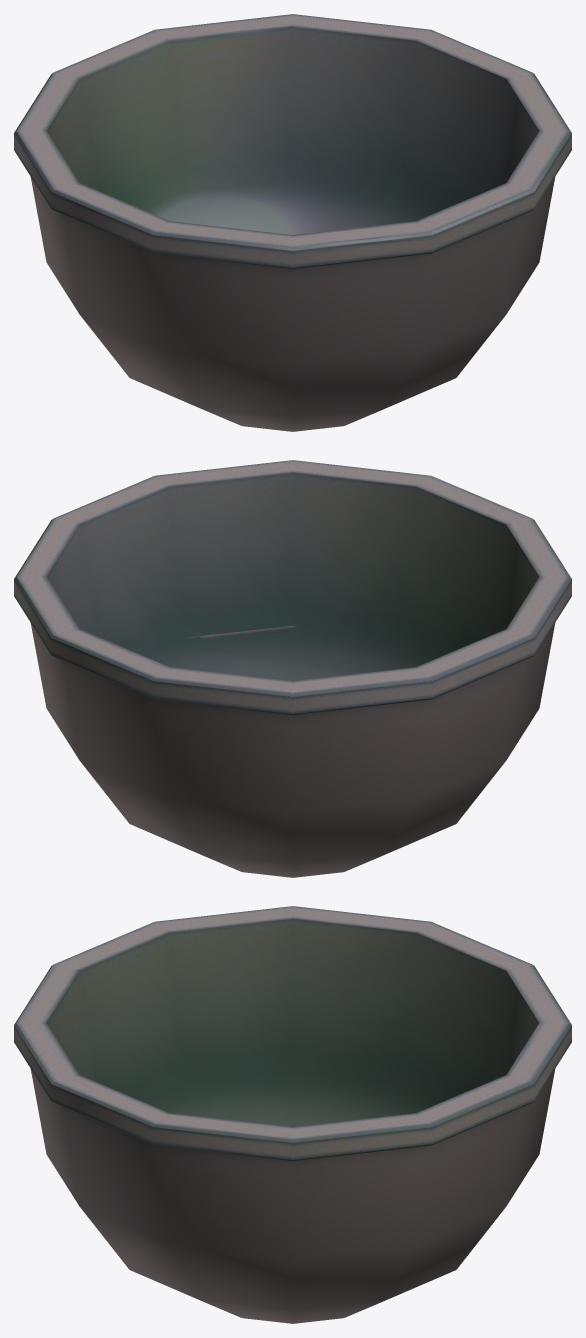
The model's file is mixingBowl.glb.
3 renders of one model, top to bottom at view 1: azimuth 30°, elevation 25°; view 2: azimuth 150°, elevation 25°; view 3: azimuth 270°, elevation 25°, orthographic.
Visible parts, largest first — view 1: MixingBowl; view 2: MixingBowl; view 3: MixingBowl.
Part boxes in pixels (bbox=[...]): MixingBowl: bbox=[14, 14, 571, 431]; MixingBowl: bbox=[14, 460, 571, 877]; MixingBowl: bbox=[14, 906, 571, 1323].
Size of the model in its own units: 0.3931 by 0.2142 by 0.3931.
Materials: 1 (1 with a texture image).
